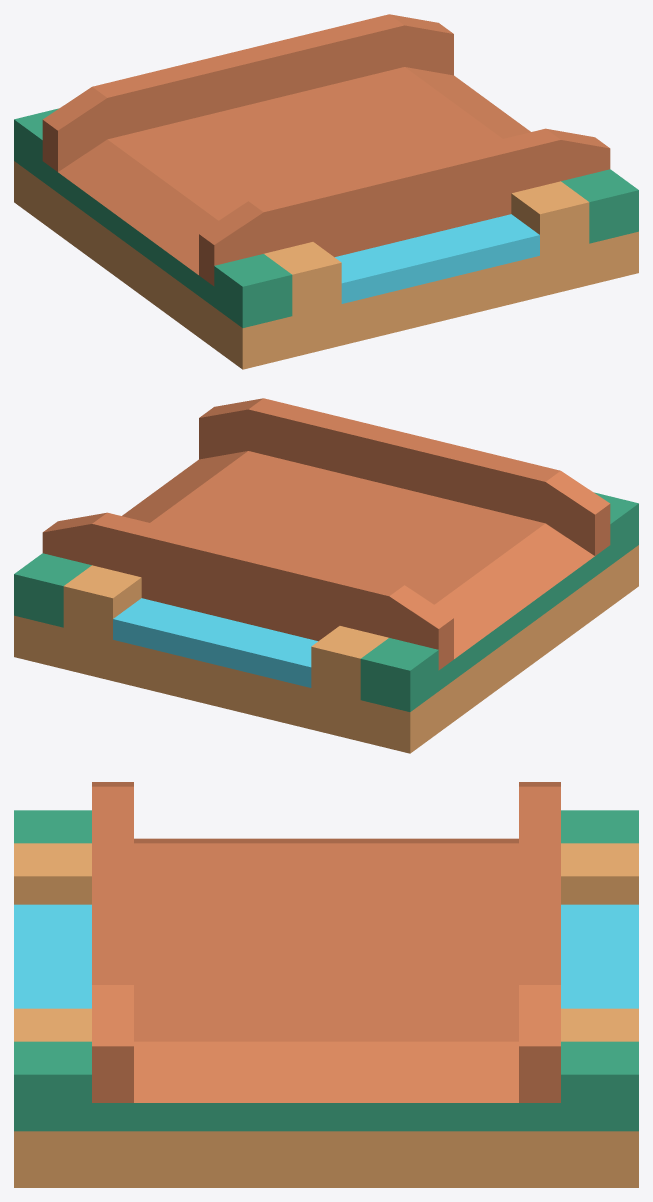
Rendered from tile_riverBridge.dae.
3 views of the same model, one above another, from view 1: azimuth 30°, elevation 25°; view 2: azimuth 150°, elevation 25°; view 3: azimuth 270°, elevation 25° (orthographic). The views are drawn at different scales.
Visible parts, largest first — view 1: tile_riverBridge; view 2: tile_riverBridge; view 3: tile_riverBridge.
Boxes of the visible parts, x1,y1,x2,y2 form: tile_riverBridge: (14,14,638,369); tile_riverBridge: (14,398,638,753); tile_riverBridge: (14,782,638,1187).
Bounding box in the file's own units: 1 × 0.3 × 1.
